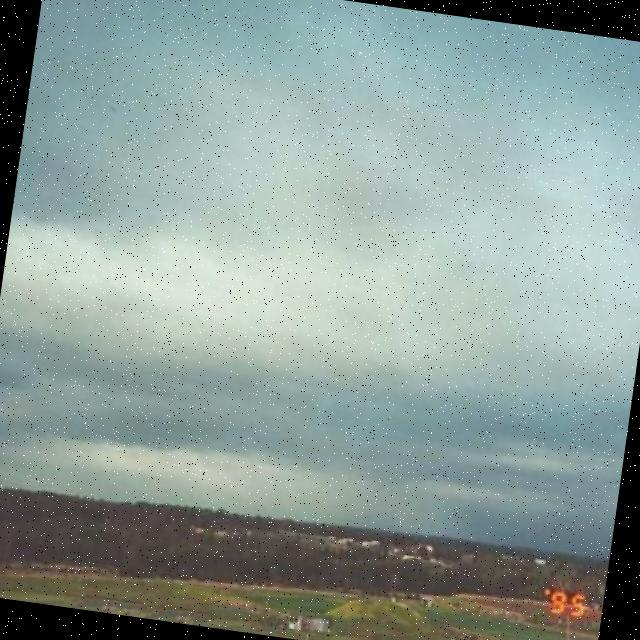Ns: (1, 1, 640, 519)
